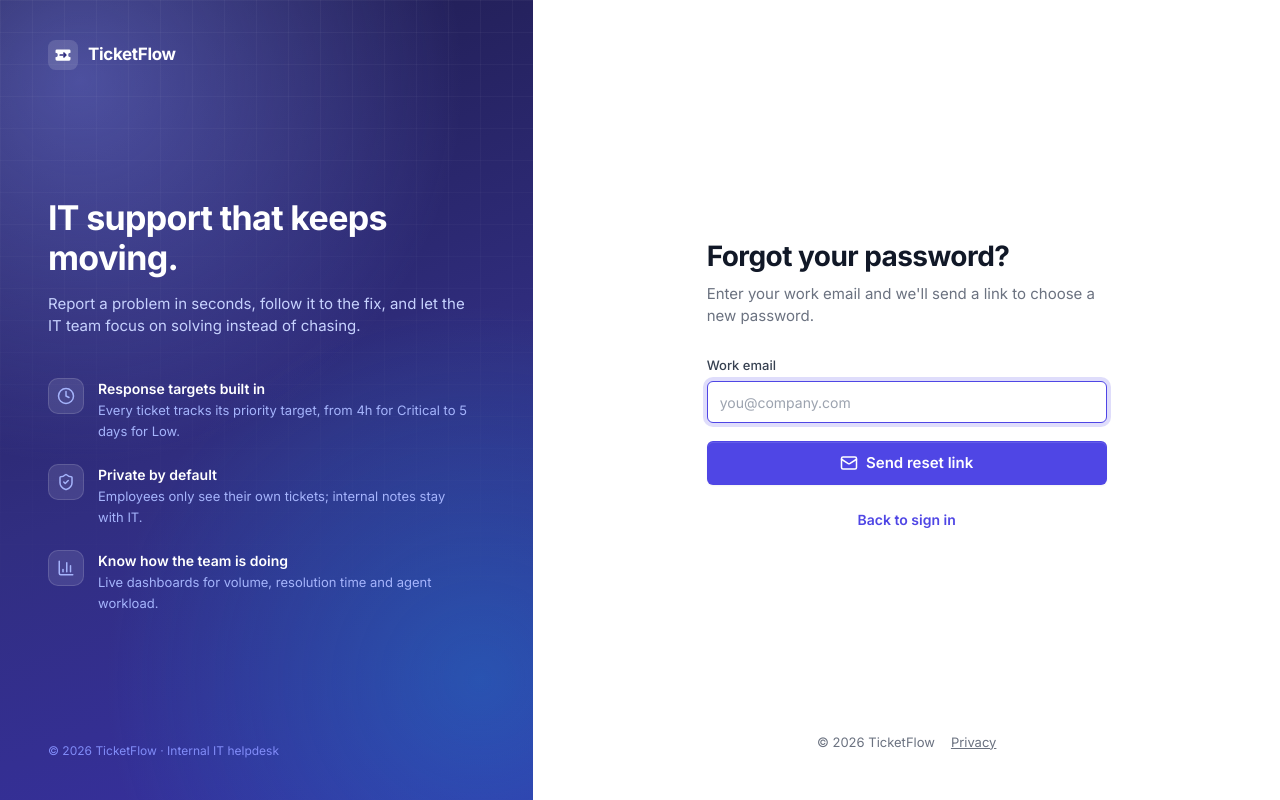
Test: Forgot password › sends the trimmed email and shows the confirmation instead of the form
Type "  someone@ticketflow.local " into the field labelled "Work email" at (907, 402), box 707,381 -> 1107,423
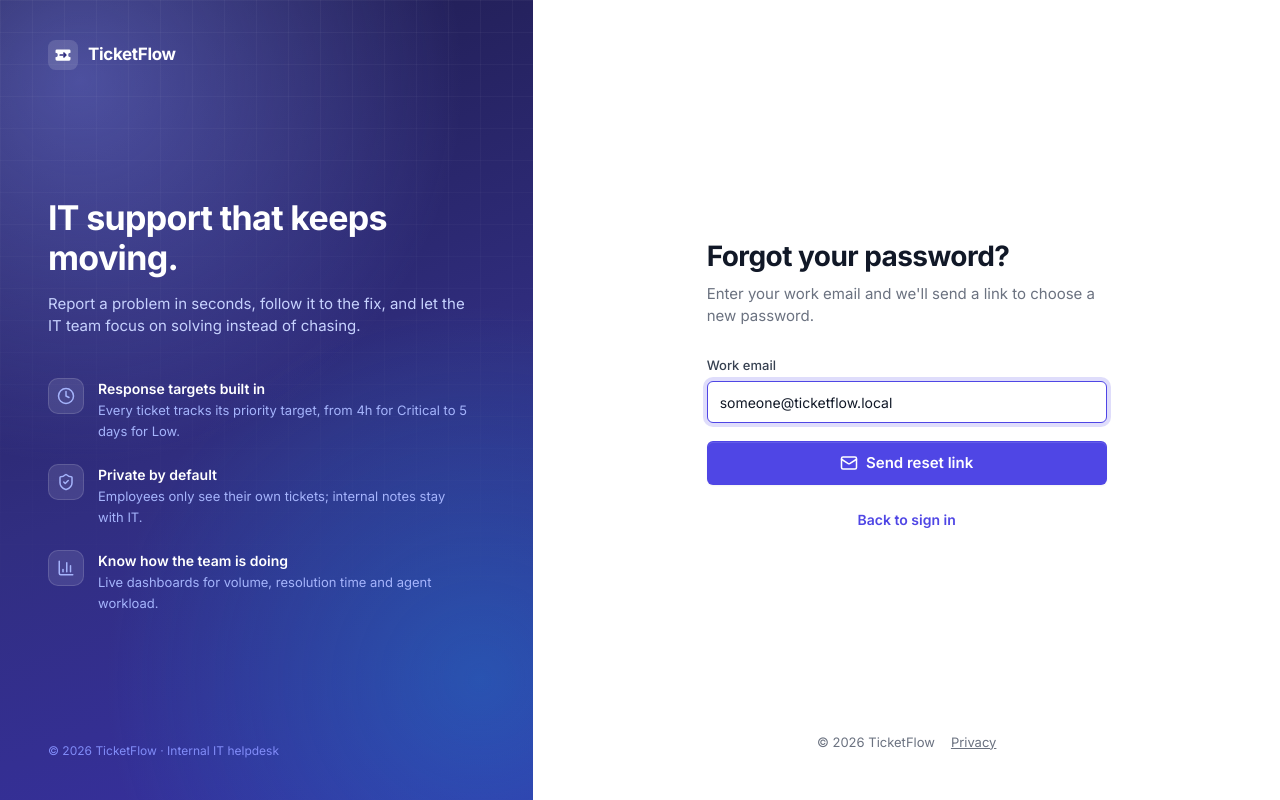
Click the button "Send reset link" at (907, 463), box 707,441 -> 1107,485
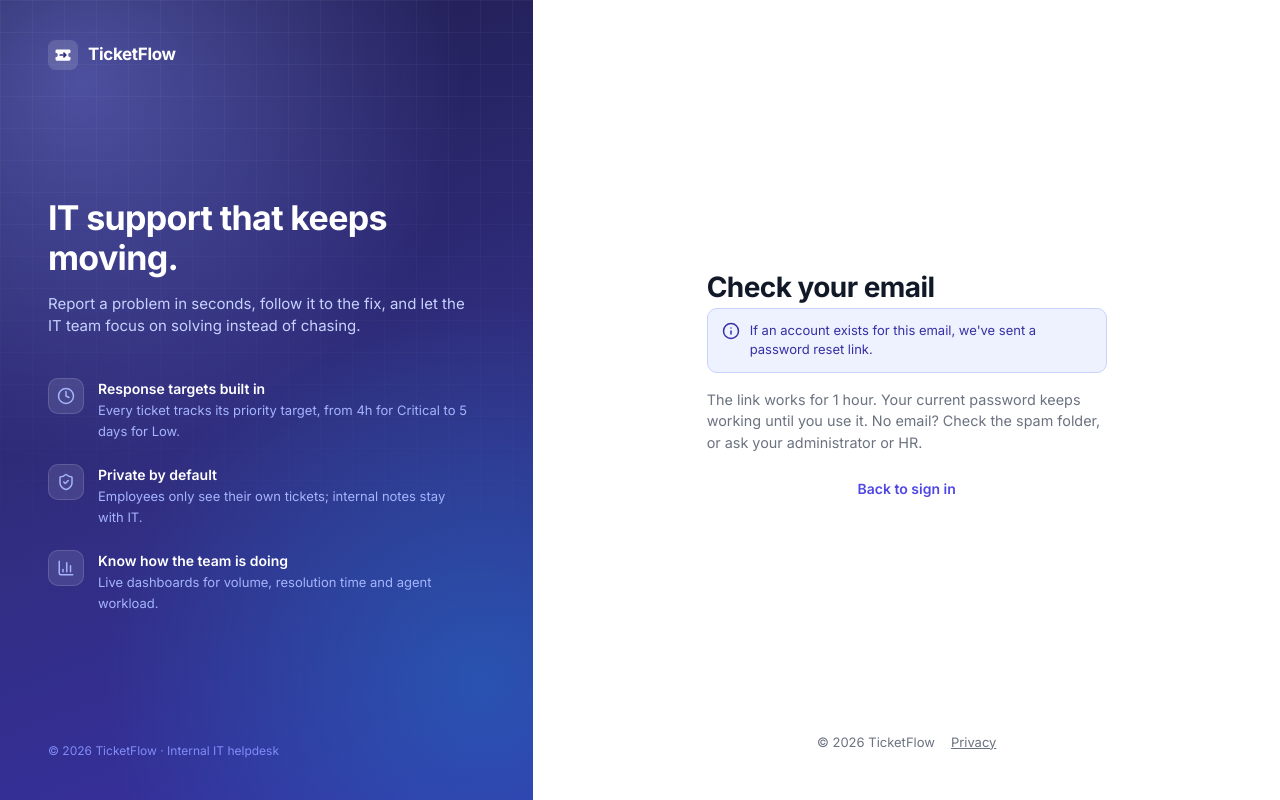
Expected: the heading "Check your email" is shown, 707,270 -> 935,304
Expected: the message reads "If an account exists for this email, we've sent a password reset link.", 750,322 -> 1036,357
Expected: the text "The link works for 1 hour" is shown, 707,391 -> 1100,451
